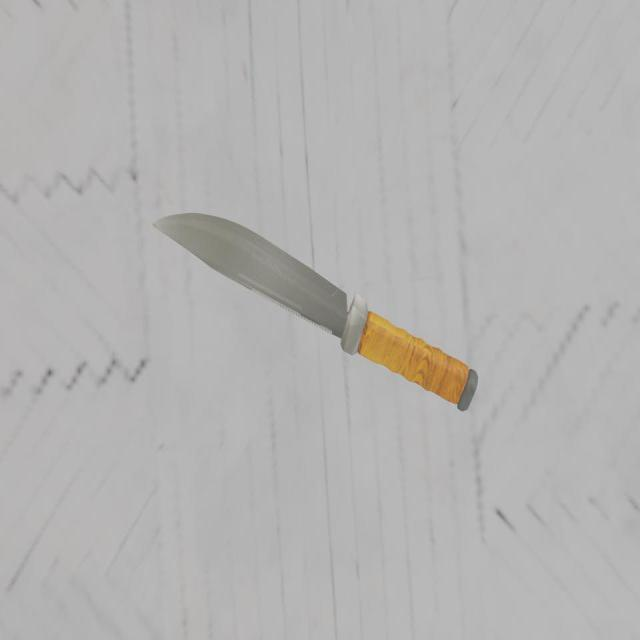knife: (346, 314, 474, 412)
